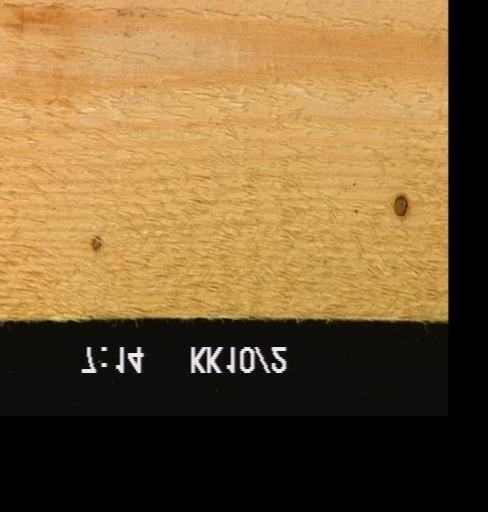dry_knot: (391, 193, 407, 218), (90, 235, 101, 252)
